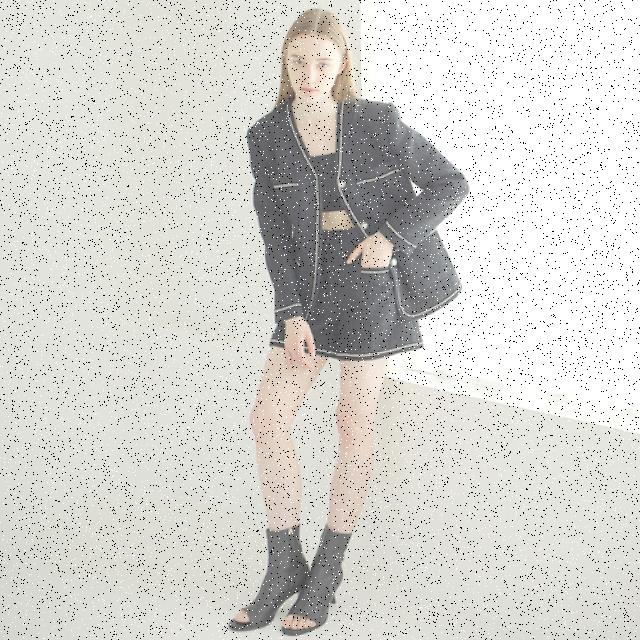Blouse_deep: (256, 225, 442, 353)
